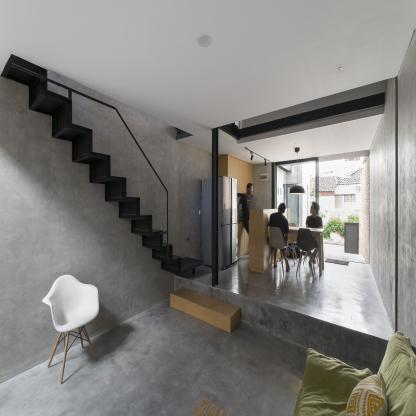kursi: (45, 276, 102, 381)
sova: (297, 331, 416, 416)
